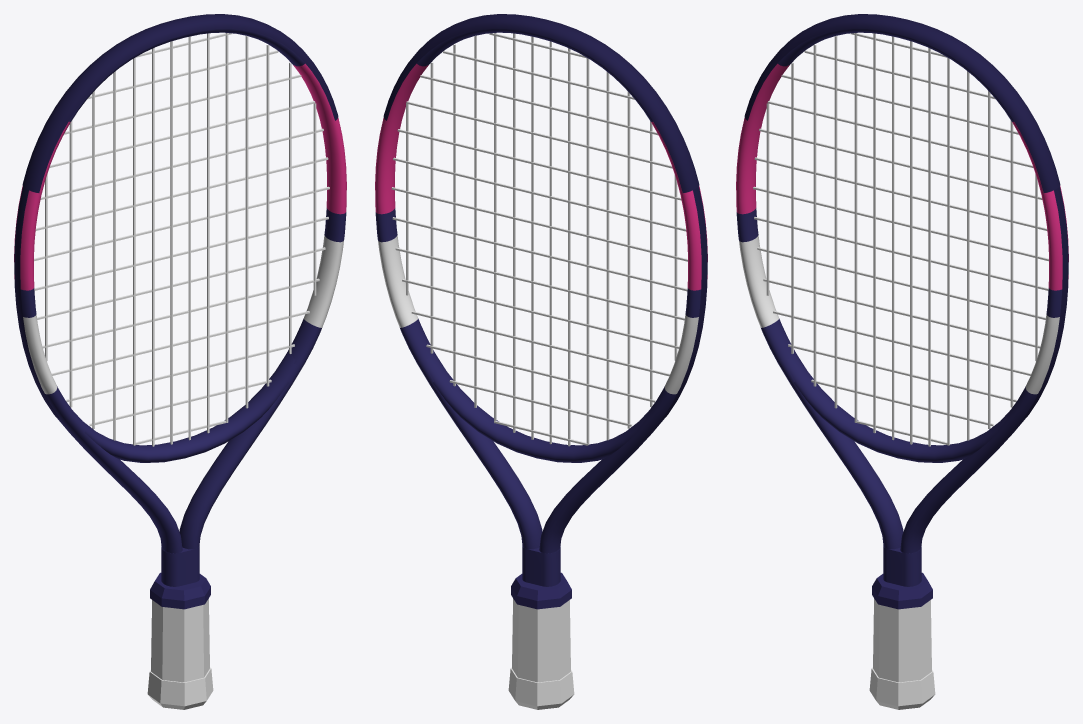
The model's file is babolat-b-fly-19-2023.glb.
3 renders of one model, left to right at view 1: azimuth 30°, elevation 25°; view 2: azimuth 150°, elevation 25°; view 3: azimuth 330°, elevation 25°, orthographic.
Parts seen in each view (by area): view 1: frame, strings_mains, strings_crosses, bumper, grip, butt_cap, collar, grommets; view 2: frame, strings_mains, strings_crosses, bumper, grip, butt_cap, collar, grommets; view 3: frame, strings_mains, strings_crosses, bumper, grip, butt_cap, collar, grommets.
Part boxes in pixels (left/top/right/bottom): frame: left=14, top=28, right=346, bottom=586; strings_mains: left=45, top=33, right=316, bottom=446; strings_crosses: left=34, top=33, right=329, bottom=444; bumper: left=22, top=14, right=338, bottom=192; grip: left=151, top=598, right=209, bottom=682; butt_cap: left=147, top=667, right=213, bottom=709; collar: left=150, top=572, right=210, bottom=609; grommets: left=14, top=186, right=59, bottom=418; frame: left=375, top=28, right=707, bottom=586; strings_mains: left=406, top=33, right=677, bottom=446; strings_crosses: left=391, top=33, right=687, bottom=445; bumper: left=383, top=14, right=699, bottom=192; grip: left=512, top=598, right=570, bottom=682; butt_cap: left=508, top=667, right=574, bottom=709; collar: left=511, top=572, right=571, bottom=609; grommets: left=662, top=186, right=707, bottom=418; frame: left=736, top=28, right=1068, bottom=586; strings_mains: left=766, top=33, right=1037, bottom=446; strings_crosses: left=753, top=33, right=1048, bottom=444; bumper: left=744, top=14, right=1060, bottom=192; grip: left=873, top=598, right=931, bottom=682; butt_cap: left=869, top=667, right=935, bottom=709; collar: left=872, top=572, right=932, bottom=609; grommets: left=1023, top=186, right=1068, bottom=418.
Bounding box in the file's own units: 0.2449 × 0.4829 × 0.0396.
